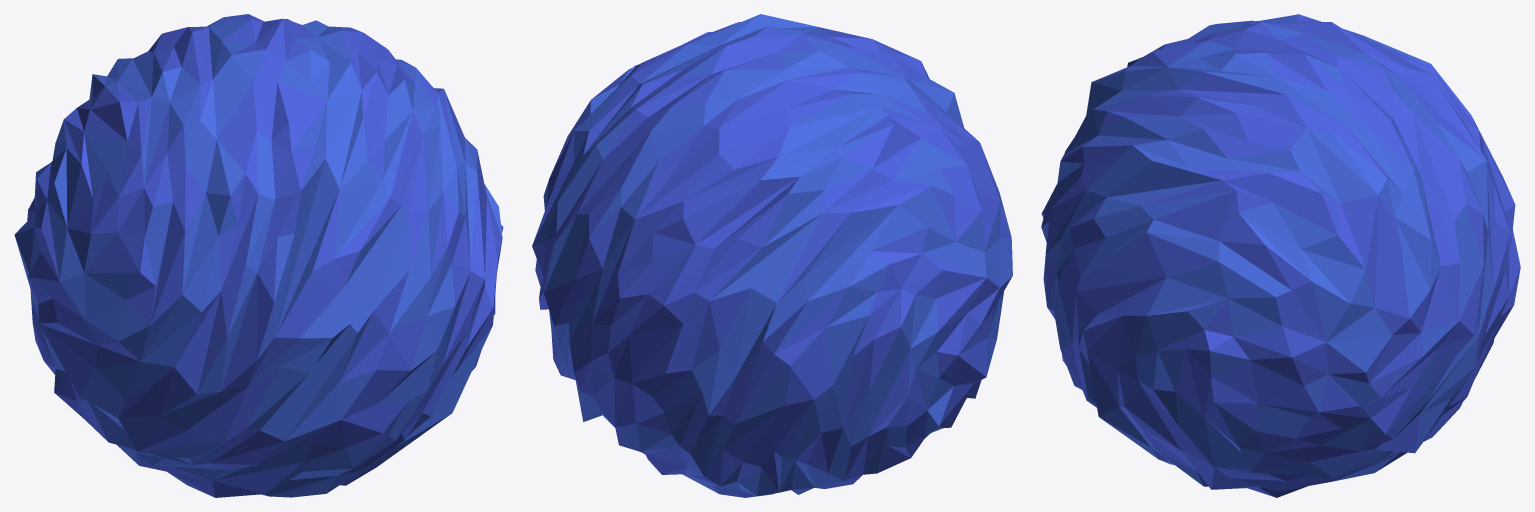
Rendered from Neptune.glb.
3 views of the same model, side by side, from view 1: azimuth 30°, elevation 25°; view 2: azimuth 150°, elevation 25°; view 3: azimuth 270°, elevation 25° (orthographic).
Visible parts, largest first — view 1: Neptune; view 2: Neptune; view 3: Neptune.
Boxes of the visible parts, box(x1,y1,x2,y2) form: Neptune: box(14, 14, 503, 497); Neptune: box(532, 14, 1012, 497); Neptune: box(1041, 14, 1520, 497).
Size of the model in its own units: 100 by 100 by 100.
1 material, 1 textured.
